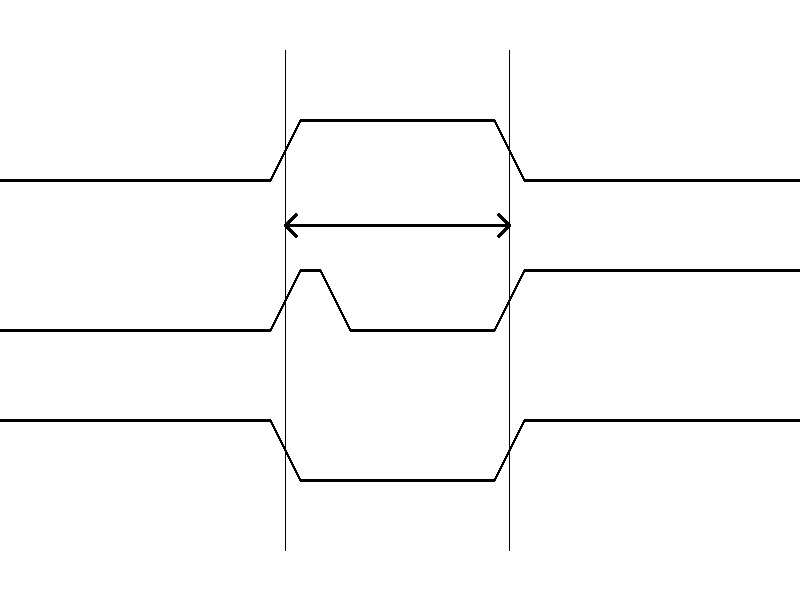double_arrow: (285, 210, 509, 240)
